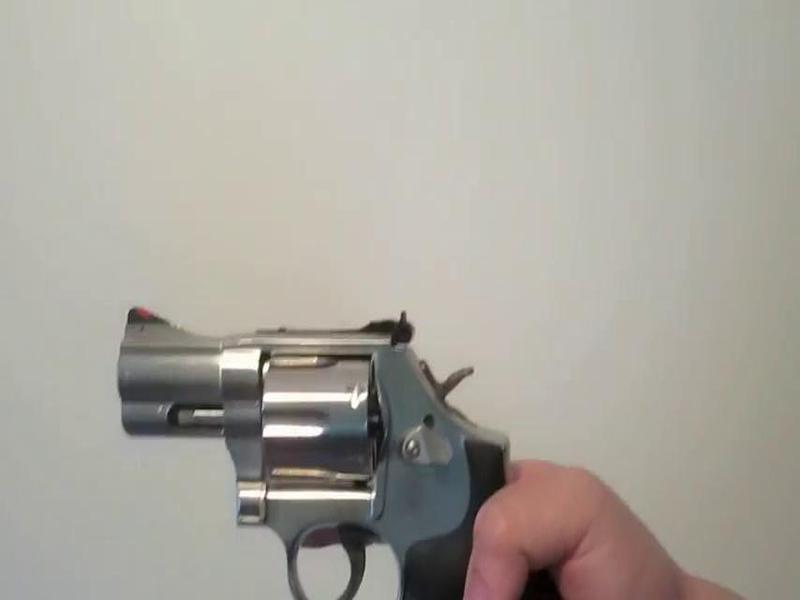Revolver: (116, 297, 520, 577)
